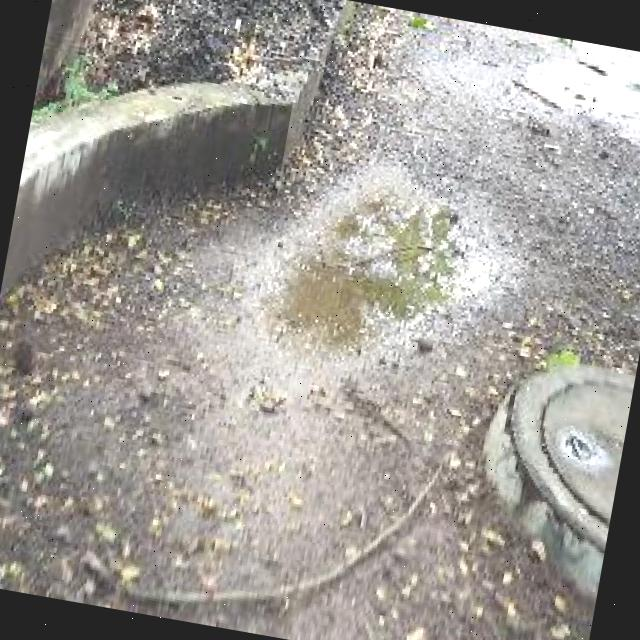stagnation: (266, 165, 457, 354)
